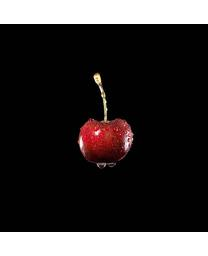cherry: (77, 118, 132, 166)
